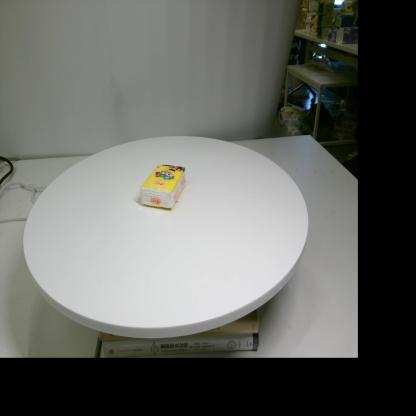Tissue: (140, 165, 186, 209)
